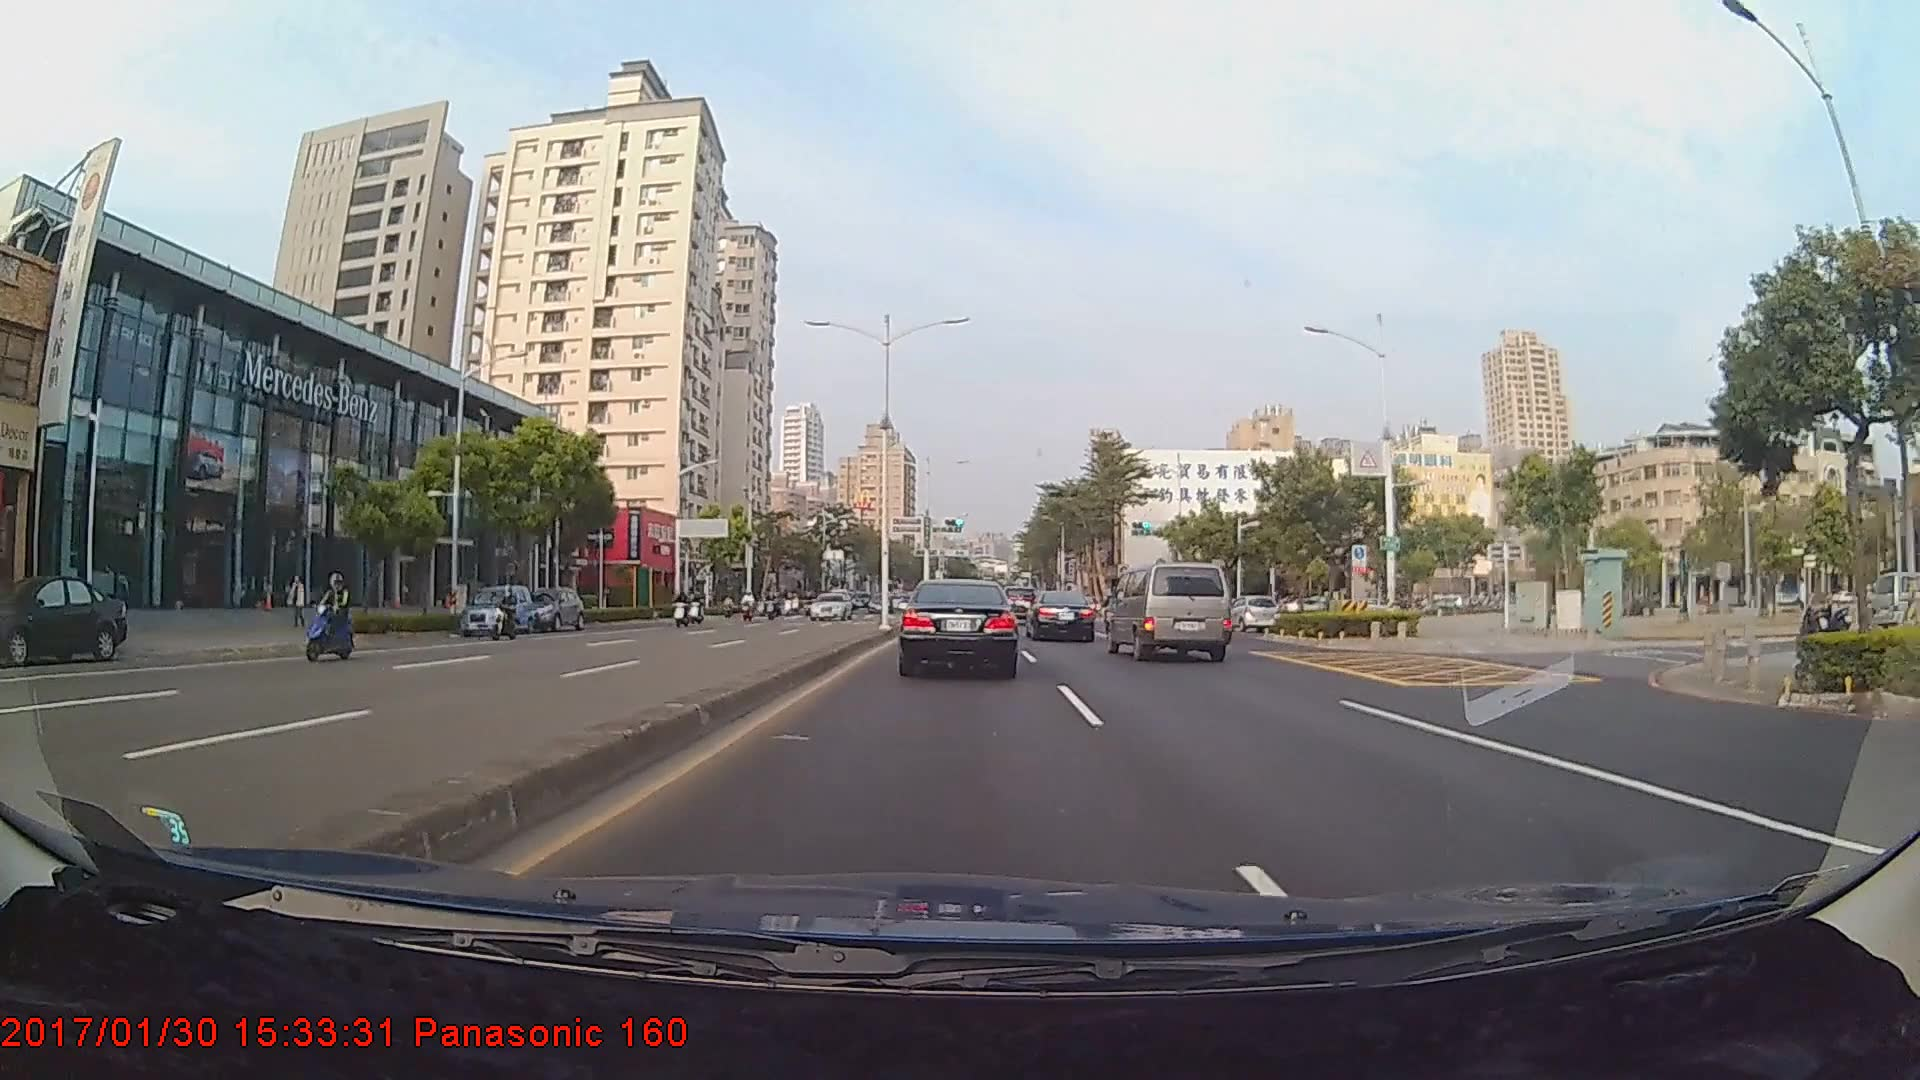pedestrian: (286, 568, 309, 630)
rider: (304, 568, 362, 665), (485, 582, 526, 648)
vehicle: (1107, 560, 1230, 662), (900, 576, 1017, 678), (0, 575, 126, 661), (1025, 588, 1097, 643), (460, 578, 533, 629), (518, 582, 582, 630), (1220, 593, 1279, 630), (807, 589, 852, 617)
